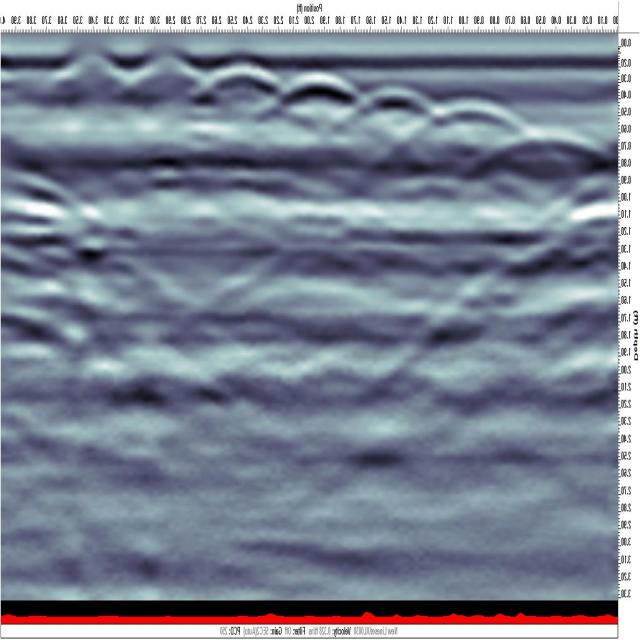hyperbola: (484, 119, 606, 185), (419, 82, 527, 153), (270, 59, 368, 134), (198, 53, 292, 117), (347, 74, 440, 134)
